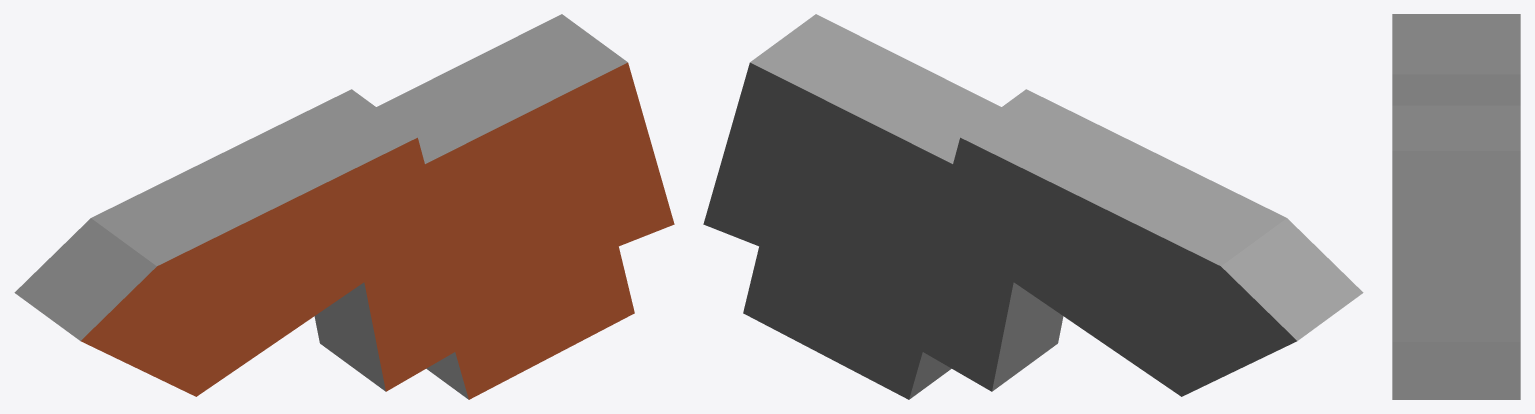
Rendered from construction_5562_assumed_A_Casa_h6m.obj.
3 views of the same model, side by side, from view 1: azimuth 30°, elevation 25°; view 2: azimuth 150°, elevation 25°; view 3: azimuth 270°, elevation 25° (orthographic). The views are drawn at different scales.
Parts seen in each view (by area): view 1: construction_5562_assumed_A_Casa; view 2: construction_5562_assumed_A_Casa; view 3: construction_5562_assumed_A_Casa.
Boxes of the visible parts, box(x1,y1,x2,y2) form: construction_5562_assumed_A_Casa: box(14, 14, 674, 399); construction_5562_assumed_A_Casa: box(703, 14, 1363, 399); construction_5562_assumed_A_Casa: box(1392, 14, 1520, 399).
Bounding box in the file's own units: 31.13 × 14.96 × 6.
